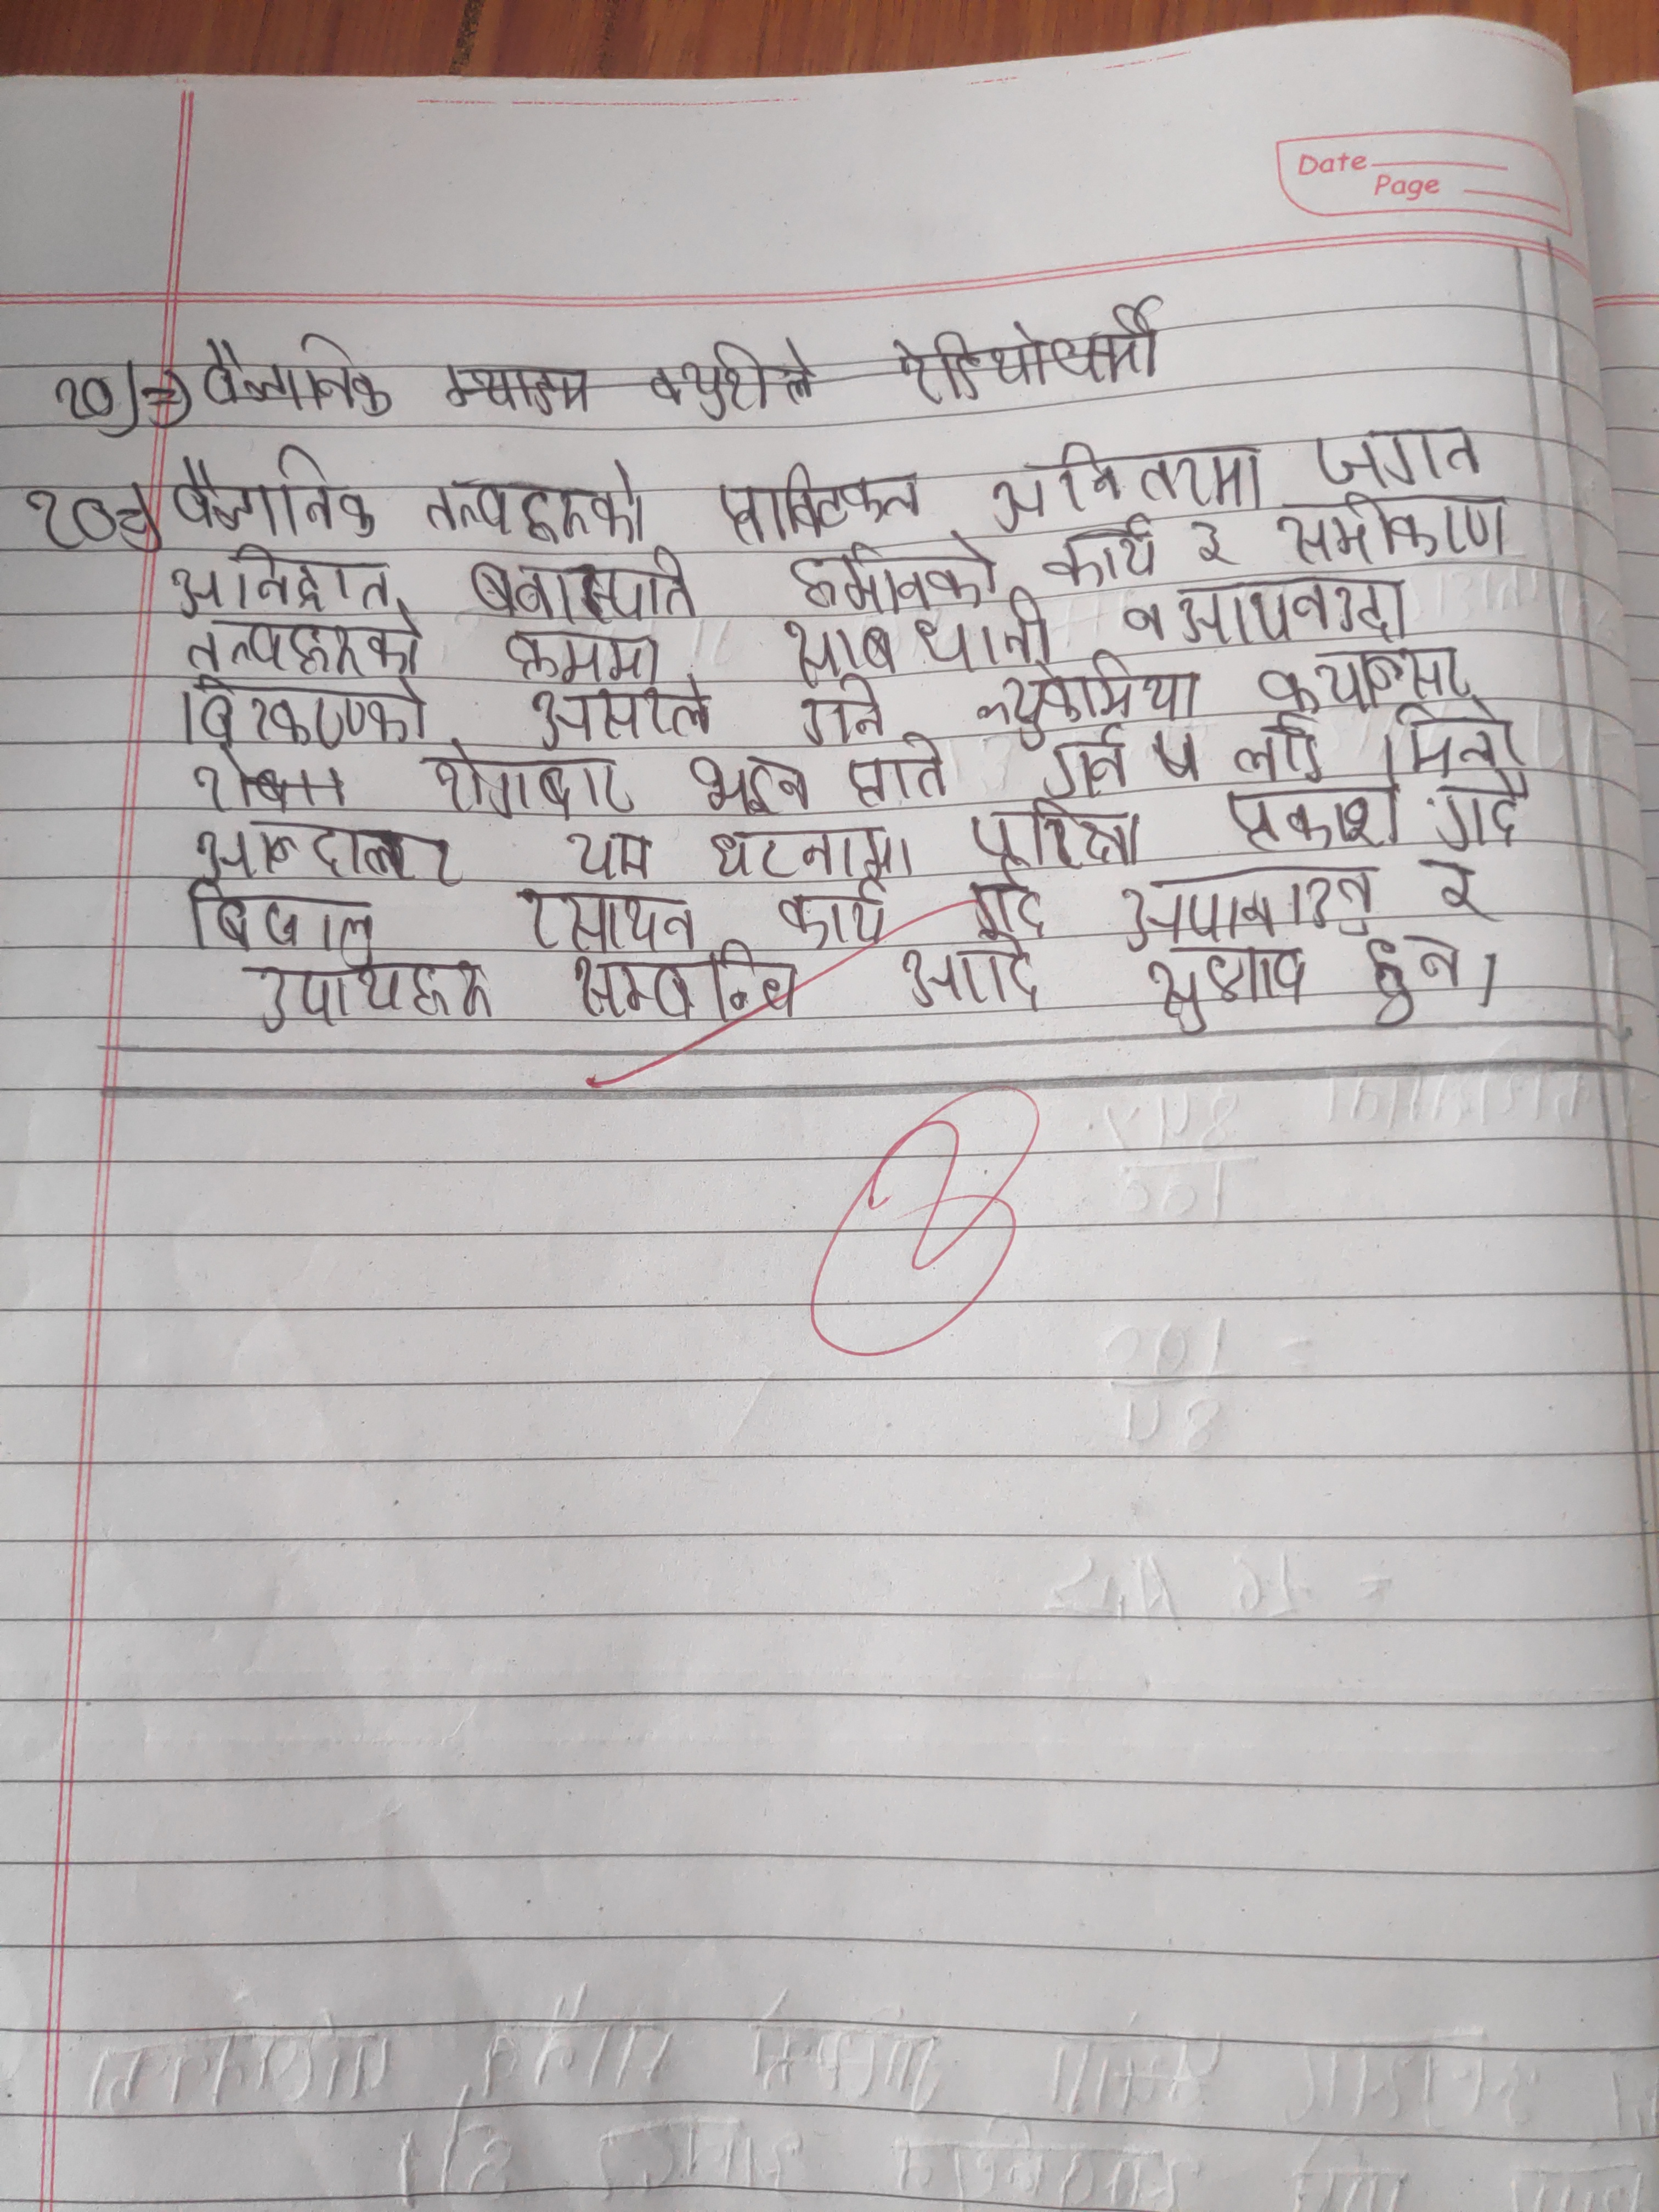text: (232, 953, 502, 1040), (985, 439, 1283, 514), (164, 441, 378, 543), (416, 453, 650, 543), (563, 944, 816, 1028), (978, 650, 1202, 742), (181, 813, 464, 885), (199, 324, 396, 425), (1105, 862, 1375, 934), (779, 611, 1053, 681), (1283, 495, 1528, 571), (157, 678, 432, 745), (464, 549, 701, 627), (427, 737, 640, 824), (164, 540, 403, 617), (1117, 583, 1429, 641), (173, 615, 429, 685), (782, 536, 1011, 611), (702, 462, 929, 536), (1129, 944, 1319, 1031), (183, 878, 382, 958), (1213, 775, 1399, 857), (525, 676, 716, 751), (509, 883, 701, 958), (702, 813, 918, 880), (890, 934, 1049, 1019), (1251, 643, 1473, 704), (1312, 418, 1490, 491), (1380, 693, 1535, 772), (1370, 921, 1466, 1036), (965, 805, 1143, 866), (681, 749, 816, 824), (491, 627, 664, 685), (1040, 517, 1169, 594), (772, 874, 901, 946), (843, 732, 955, 810), (1431, 768, 1528, 853), (788, 671, 892, 749), (1234, 712, 1335, 787), (957, 866, 1053, 944), (1033, 725, 1129, 796), (563, 824, 660, 881), (1412, 853, 1485, 921), (1187, 514, 1244, 578)
